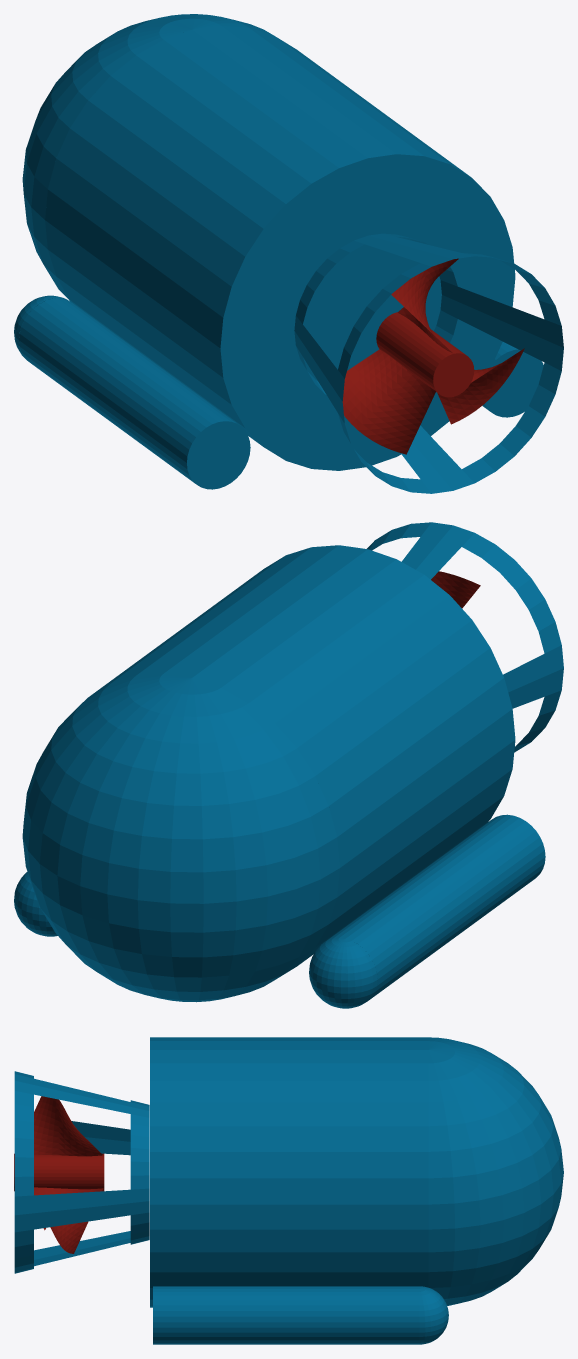
File: Submarine.dae
3 views of the same model, one above another, from view 1: azimuth 30°, elevation 25°; view 2: azimuth 150°, elevation 25°; view 3: azimuth 270°, elevation 25° (orthographic). The views are drawn at different scales.
Visible parts, largest first — view 1: SubmarineBody, Propeller; view 2: SubmarineBody, Propeller; view 3: SubmarineBody, Propeller.
Boxes of the visible parts, bbox=[...] form: SubmarineBody: bbox=[14, 14, 563, 493]; Propeller: bbox=[342, 258, 524, 454]; SubmarineBody: bbox=[14, 522, 563, 1008]; Propeller: bbox=[431, 571, 480, 608]; SubmarineBody: bbox=[14, 1037, 563, 1344]; Propeller: bbox=[14, 1096, 104, 1253].
Size of the model in its own units: 2.43 by 4.07 by 2.
2 materials, 2 textured.
